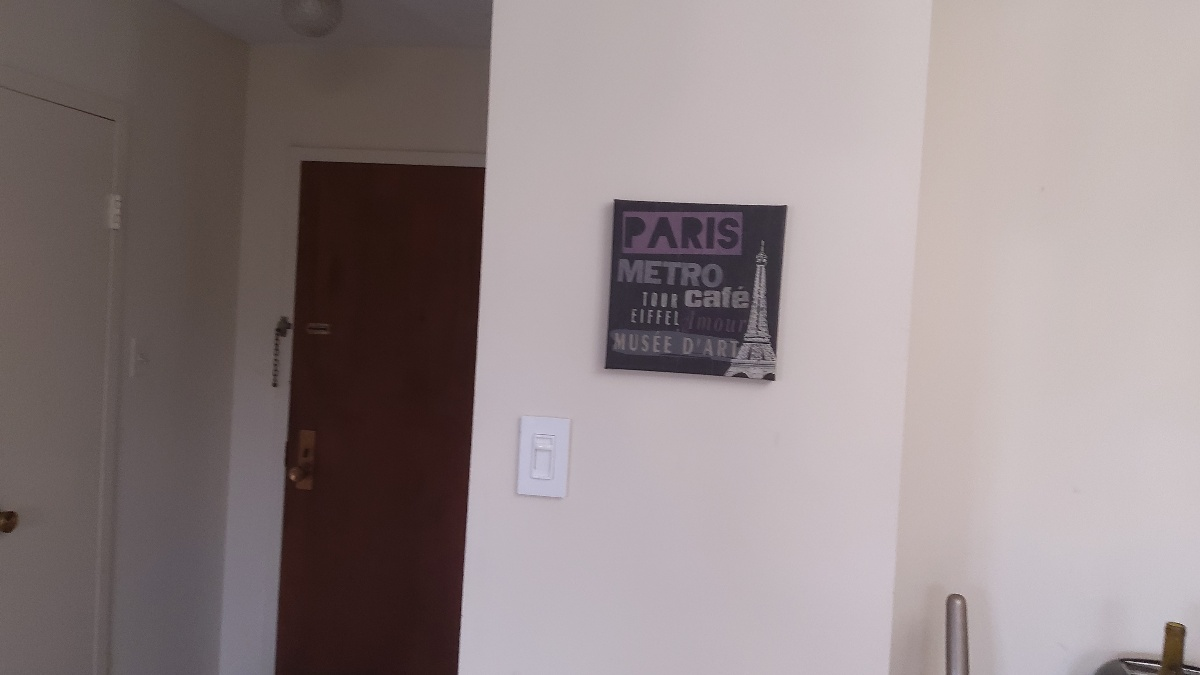poster: (599, 194, 788, 386)
